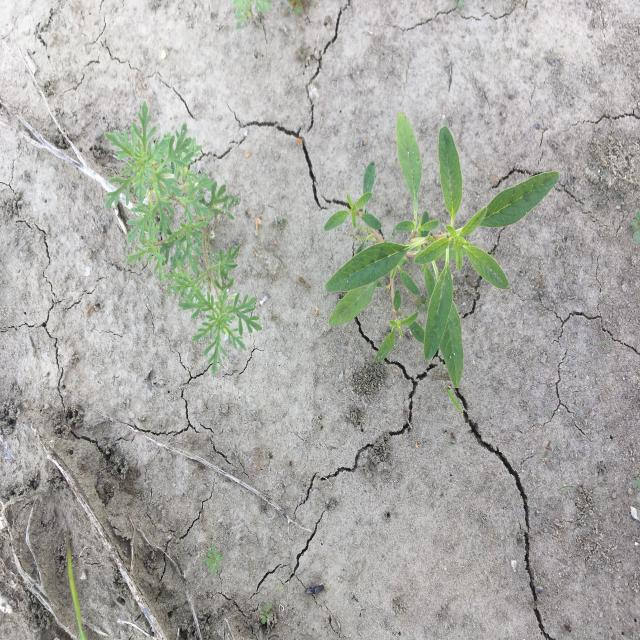Ragweed: (102, 98, 264, 376)
Waterhemp: (323, 112, 560, 390)
